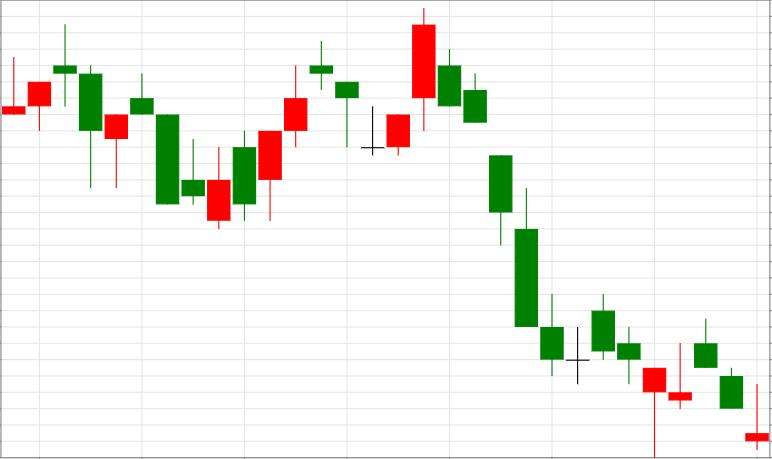evening_star_fall: (208, 41, 359, 230)
hammer_rise: (438, 48, 666, 457)
